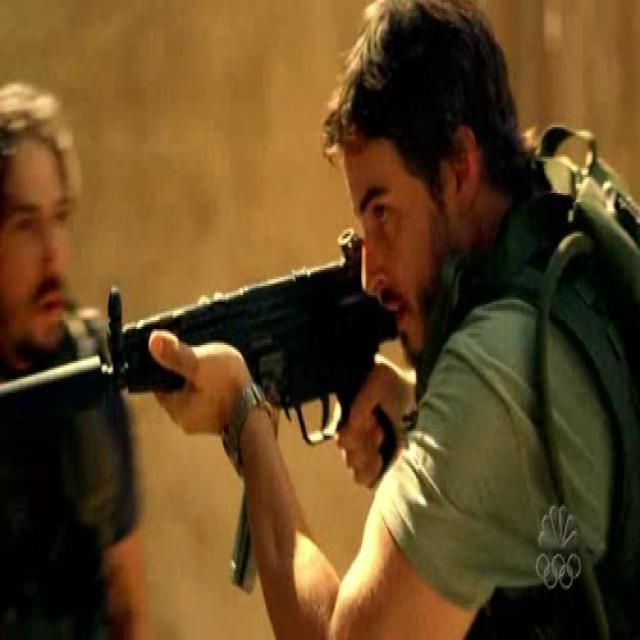rifle: (3, 222, 401, 598)
